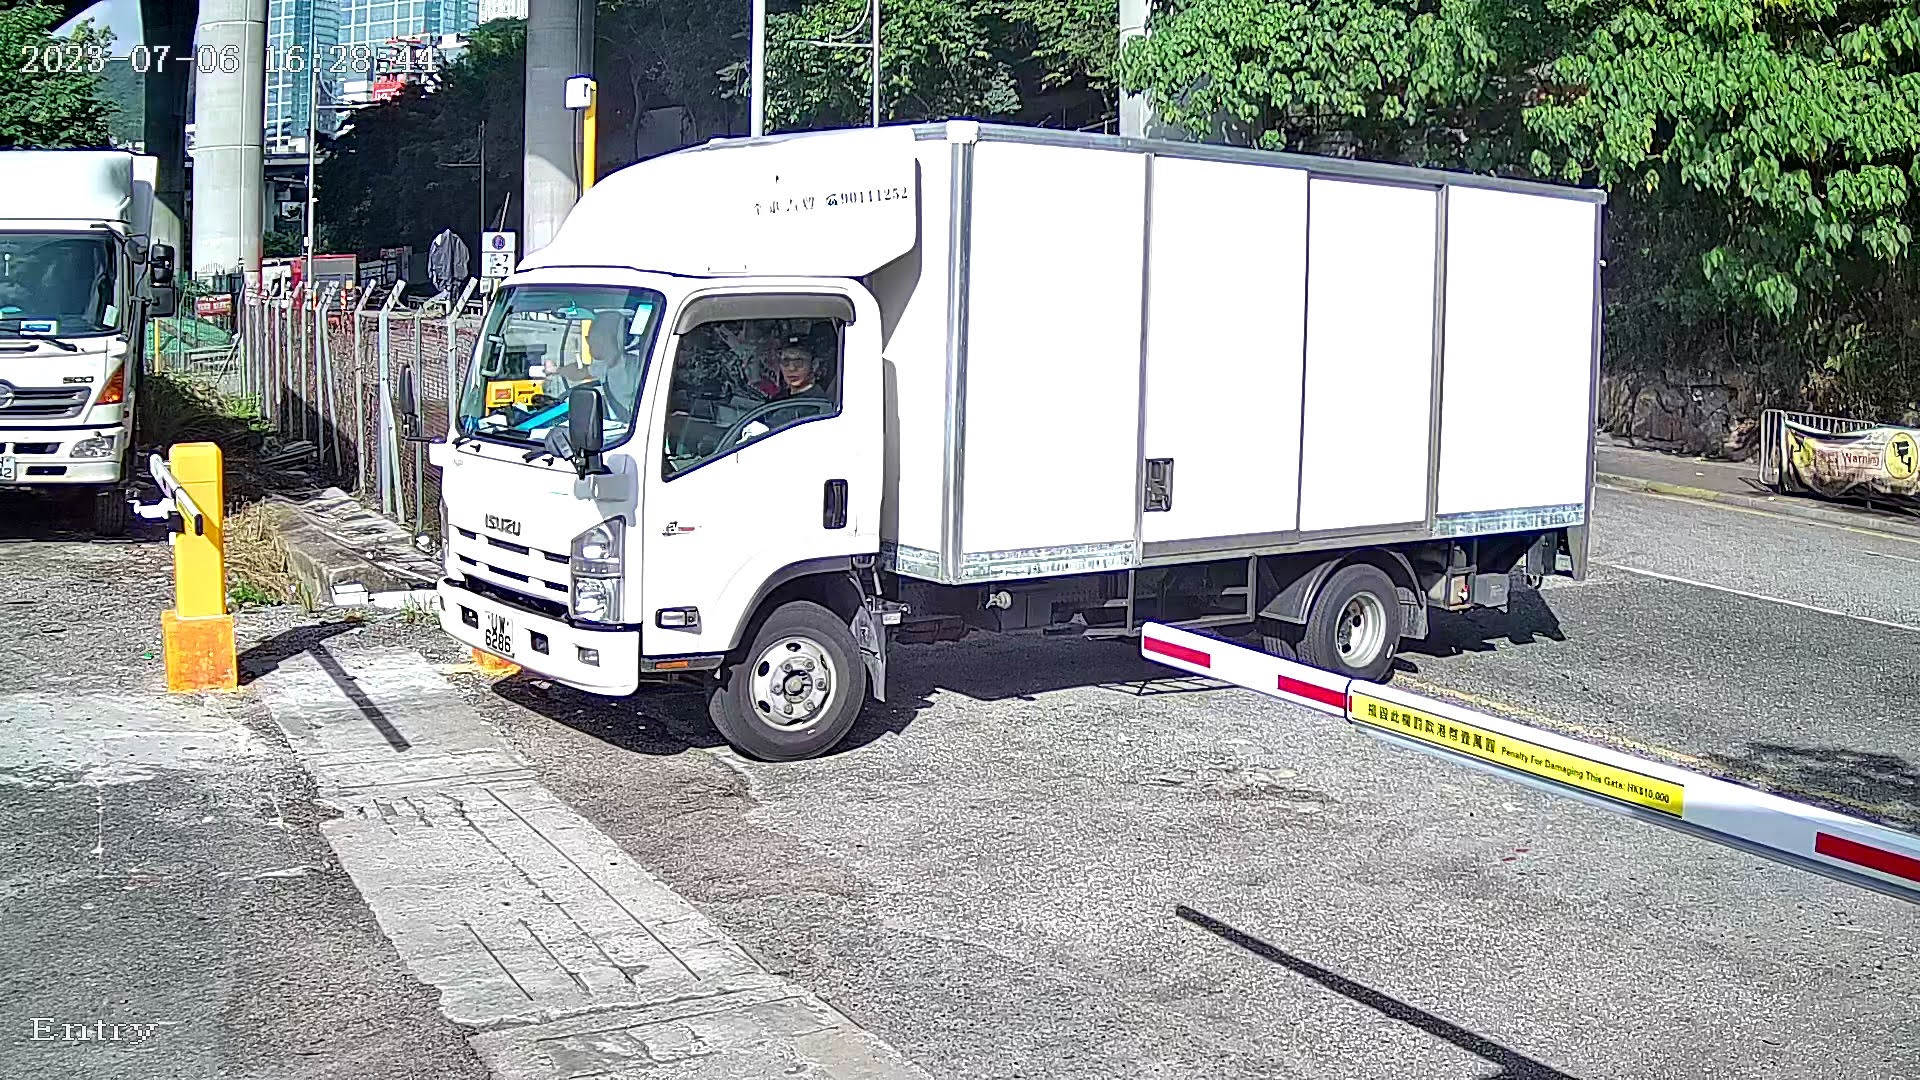truck: (382, 40, 1683, 771)
